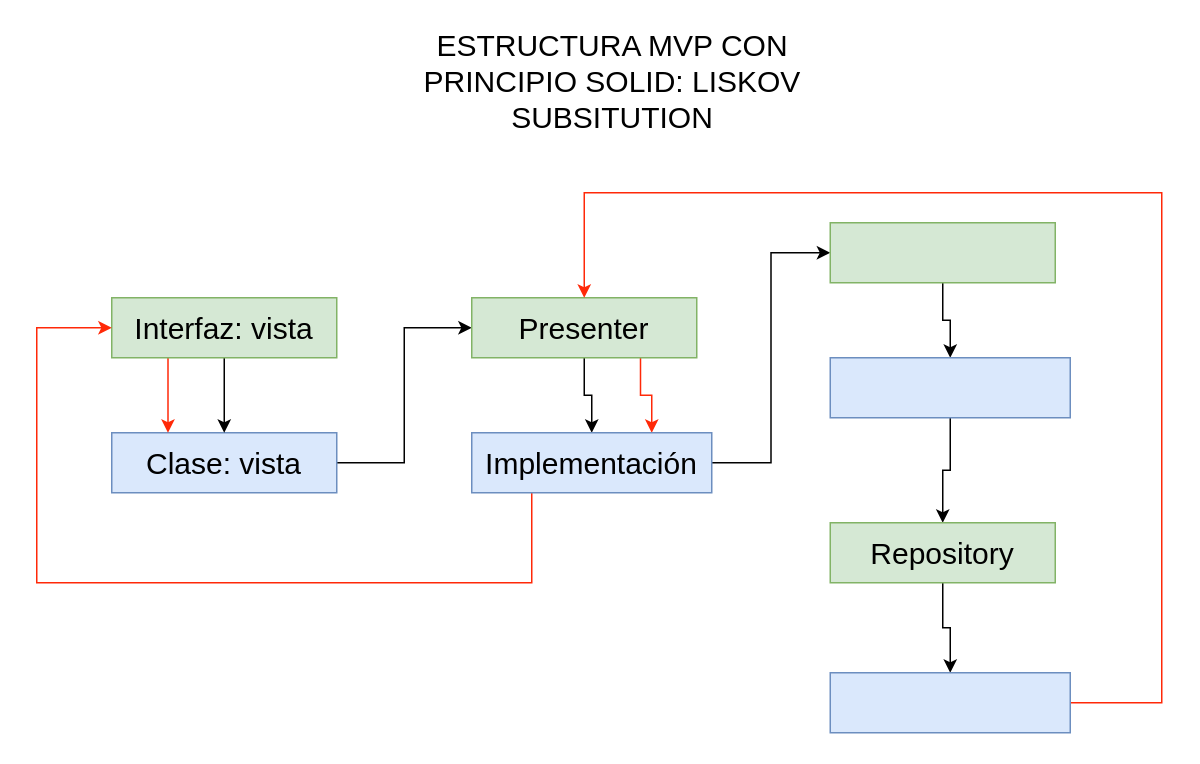
This 1200x764 diagram has some shape labels left out. Here are the shapes that lost their labels. From the top down, the centre of each, then its label:
point (942, 252): Interactor
point (949, 387): Implementación interactor
point (949, 702): Implementación repository
